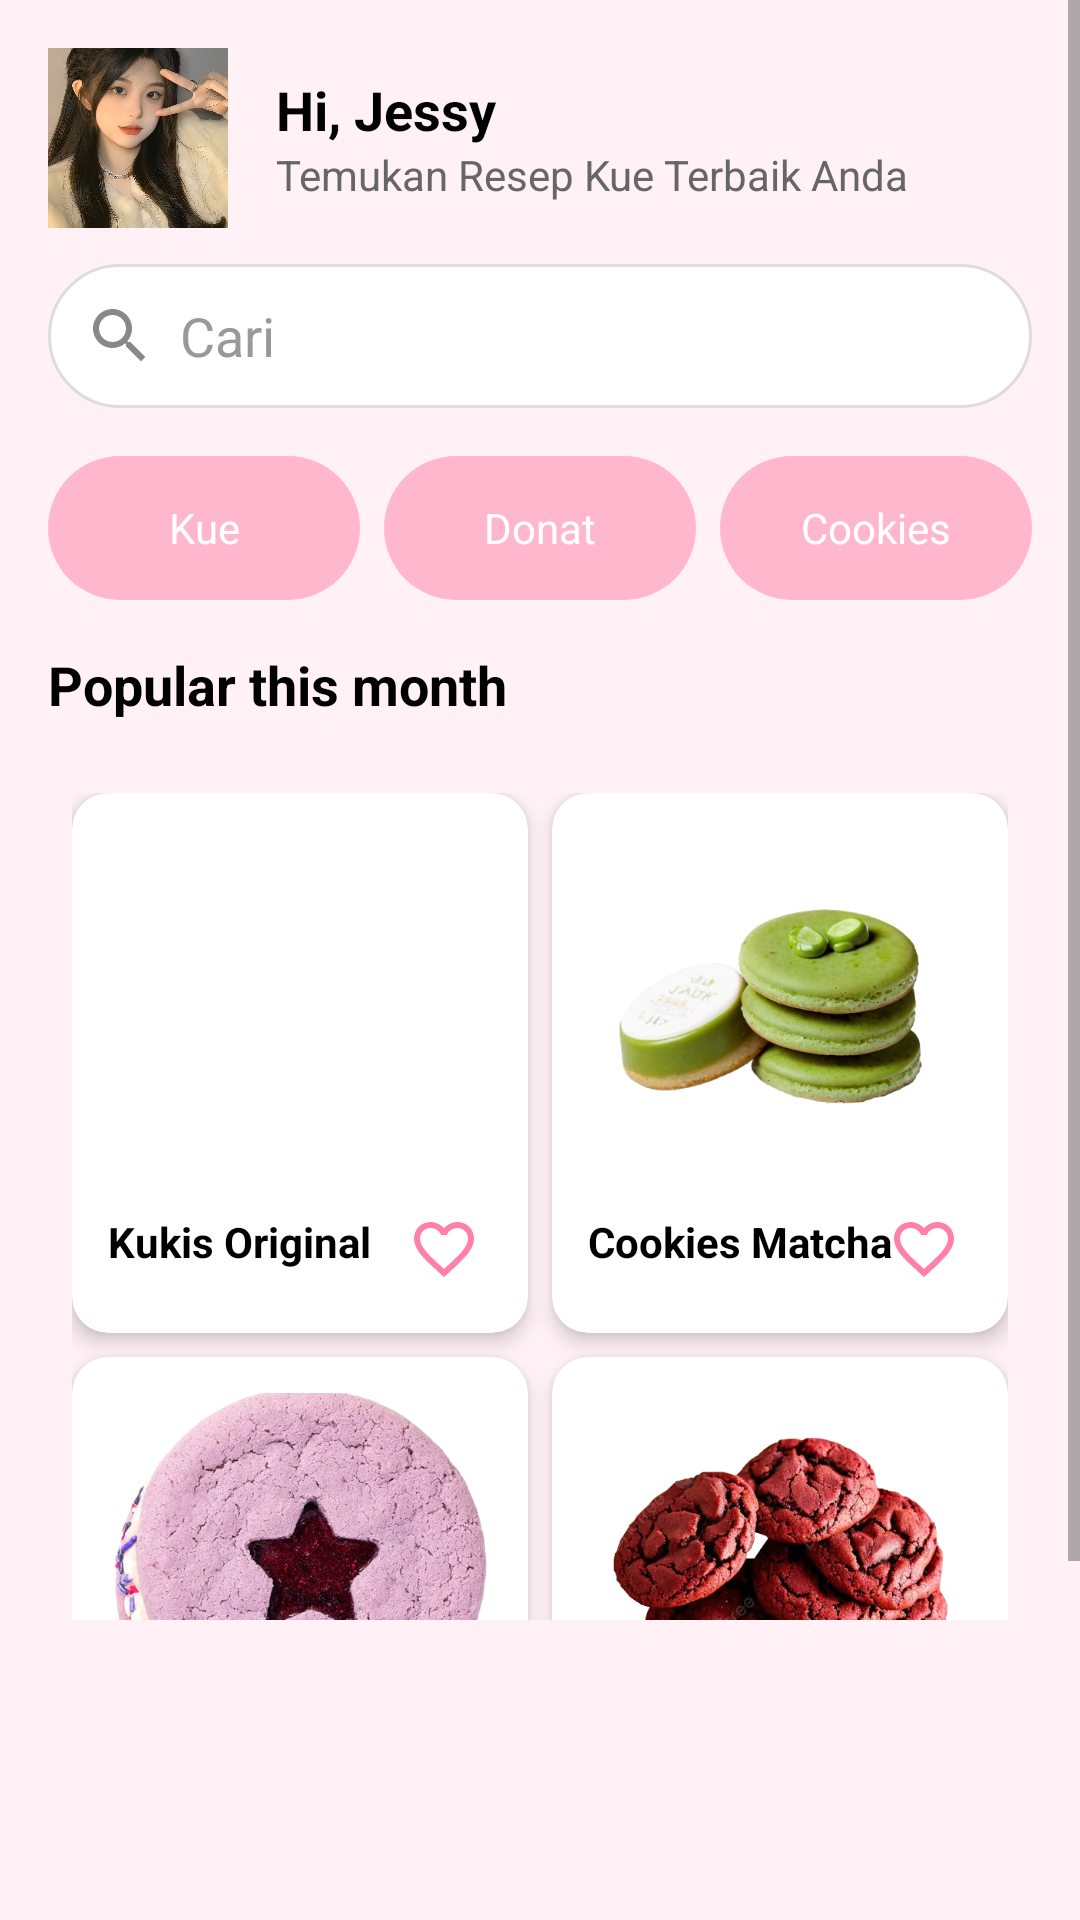

Screen size 1080px x 1920px. Icon name, then its center in pixels as [x,y]:
Foto Profil: [138,138]
search: [119,335]
